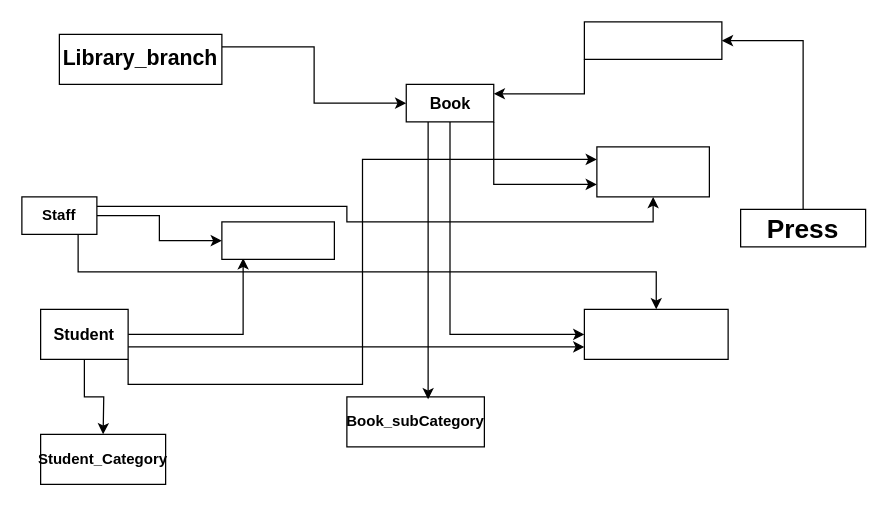
The diagram is 888 pixels wide and 506 high, and some of its shapes have lost their labels. The box of each missing label's shape, as (x1, y1, x2, y2) in pixels:
Book_copies: (583, 21, 722, 59)
Book_issue: (583, 308, 728, 359)
Book_Loan: (596, 146, 709, 197)
Department: (221, 221, 334, 259)
